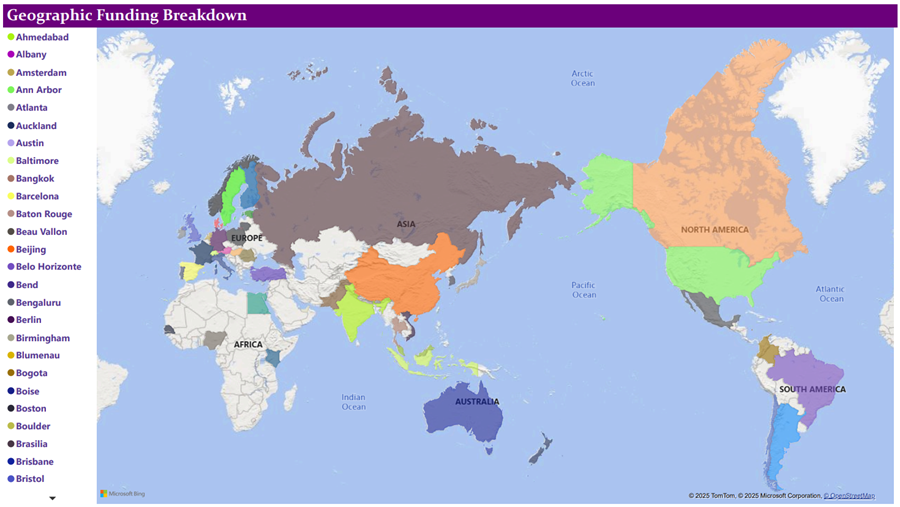

What the dashboard file says about the page in this screenshot:
{"tool":"powerbi","page":{"name":"Page 2","canvas":[1280,720],"ordinal":1},"visuals":[{"type":"filledMap","title":"Geographic Funding Breakdown","fields":{"Category":["Sheet1.country"],"Series":["Sheet1.location"]},"box":[0,0,1280.3,720.4],"z":0}]}

Visuals, with their boxes in screenshot pixels (x1, y1, x2, y2), scaled from the page's 1280x720 canvas onto the 900x507 screenshot:
"Geographic Funding Breakdown" filledMap: (0, 0, 899, 506)
